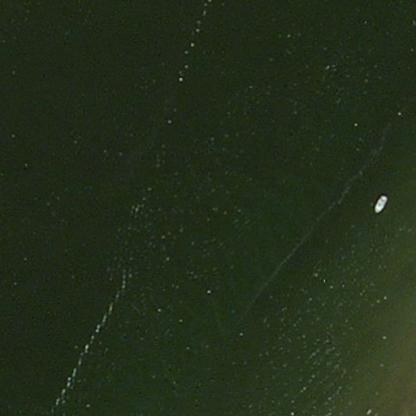ship: (363, 186, 394, 219)
